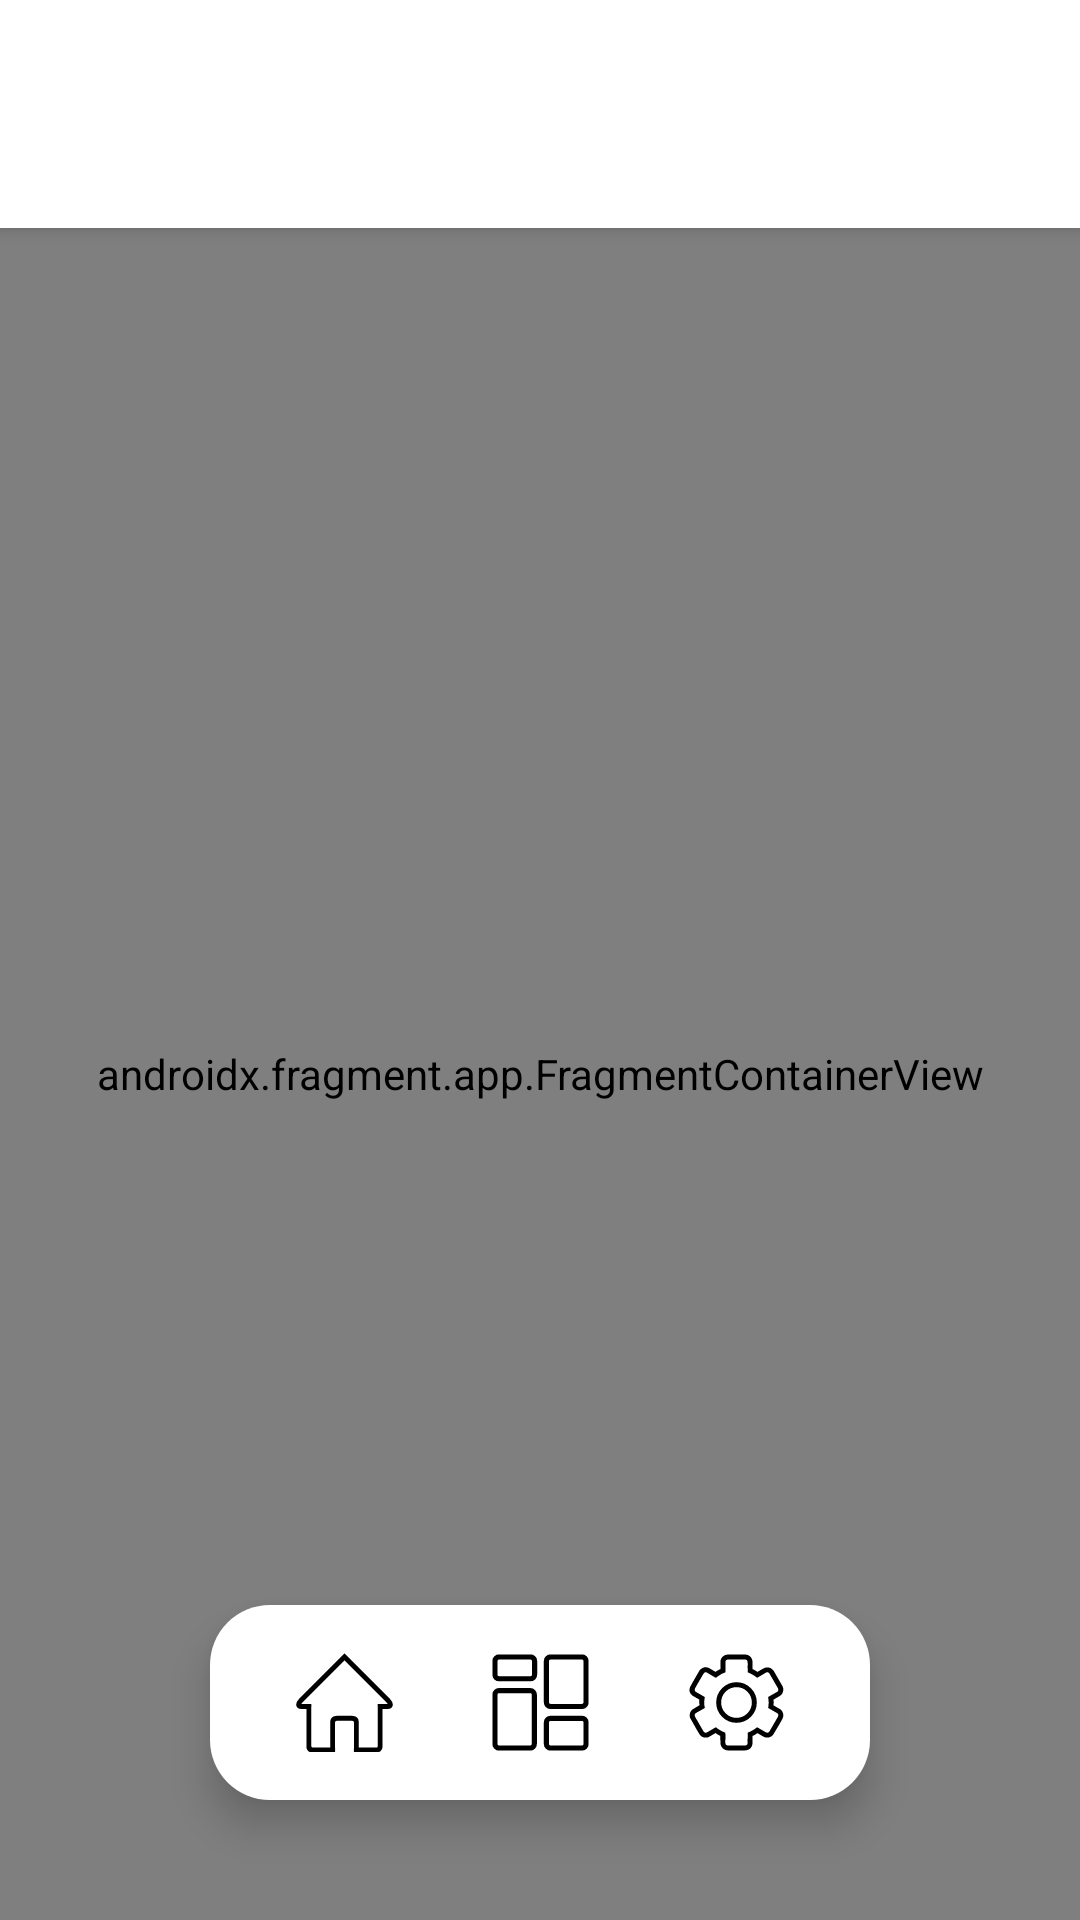

Screen size 1080*1920. Icon name, then its box in pixels as (x1, y1, x2, y2):
Dashboard: (492, 1654, 589, 1751)
Home: (296, 1653, 393, 1752)
Settings: (689, 1654, 784, 1751)
